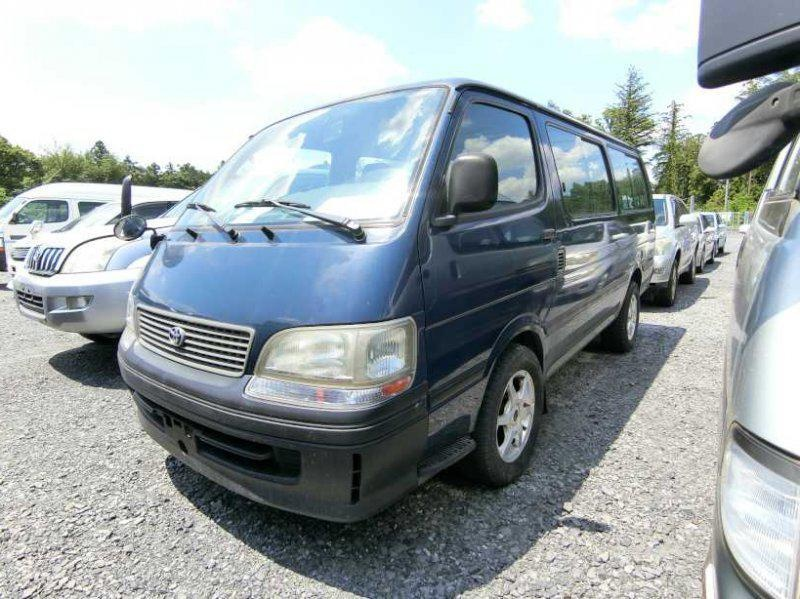van: (109, 78, 656, 531)
